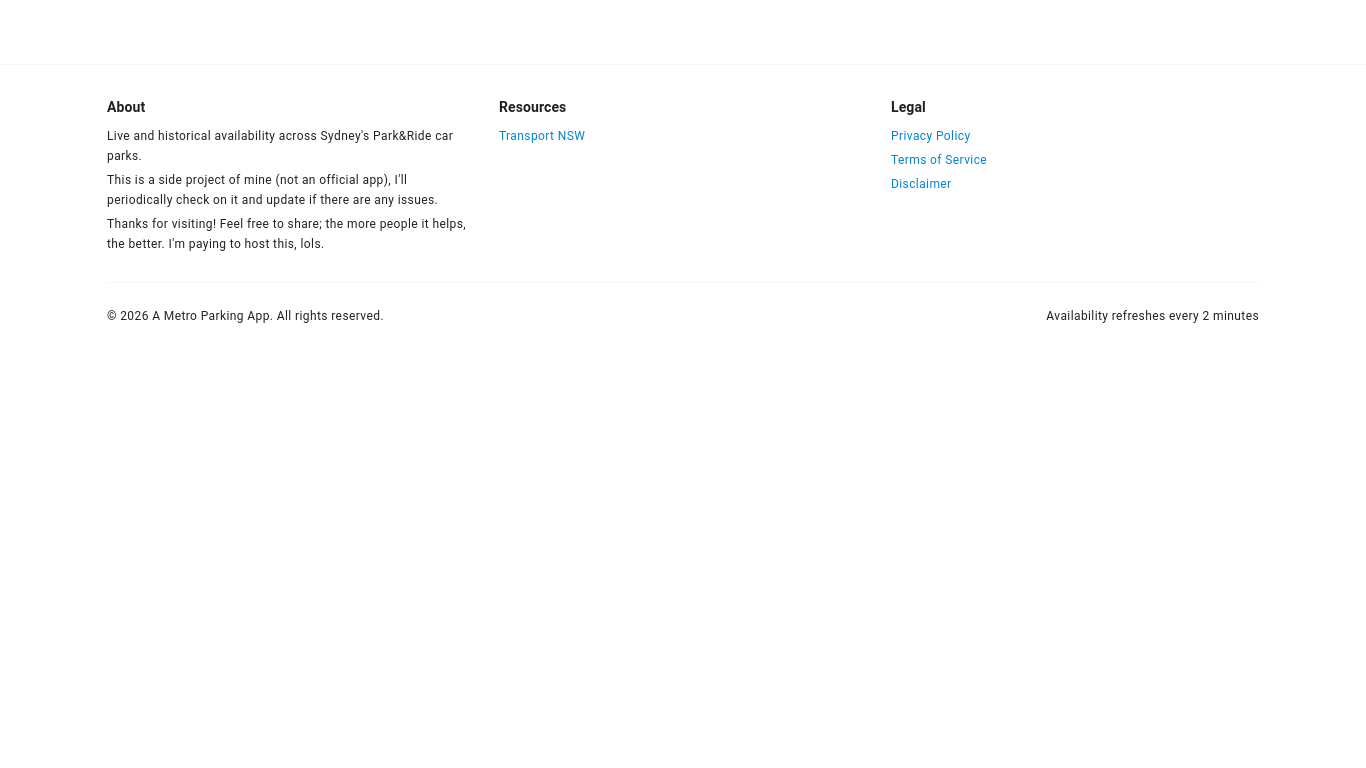
Footer › opens terms of service dialog
Click the button "Terms of Service". click: (939, 160)
box: [891,151,1259,171]
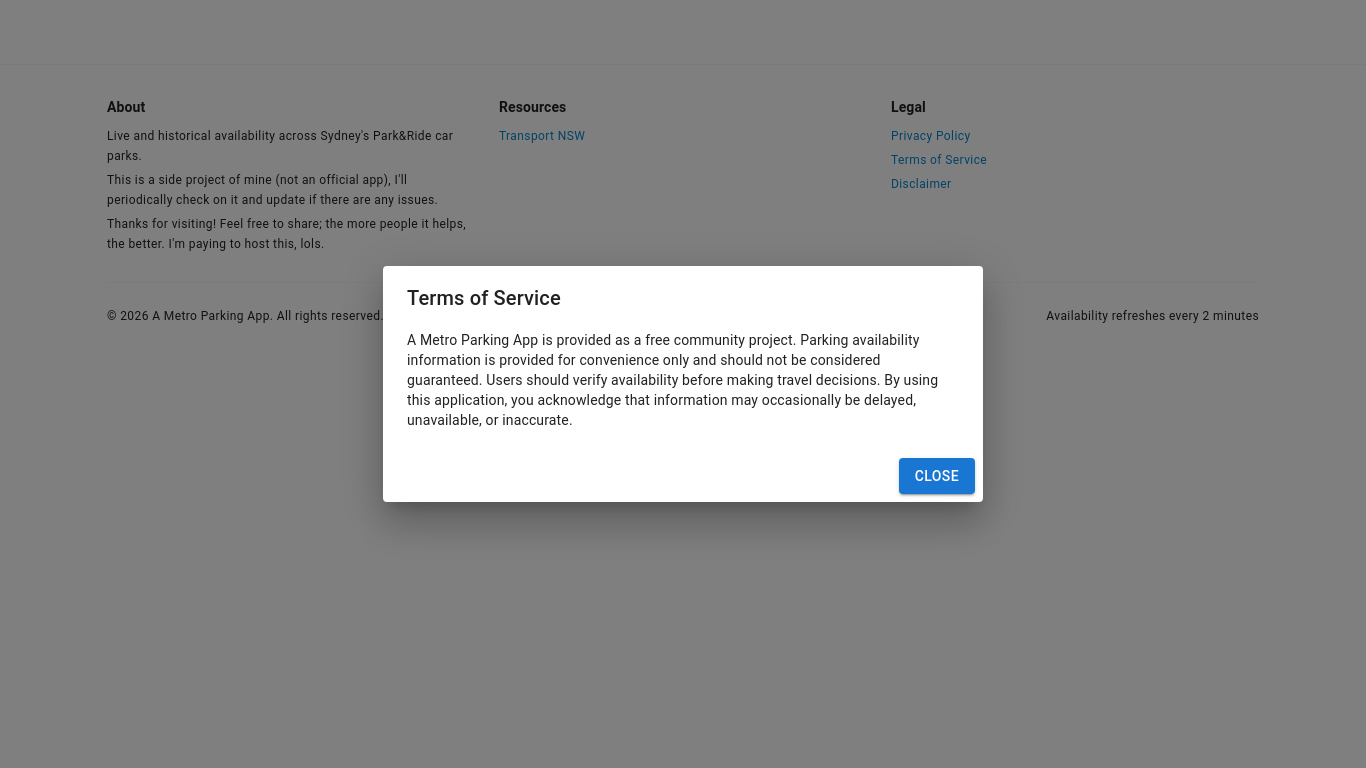
Now the dialog is shown, box [383,266,983,502]
Now the heading "Terms of Service" is shown, box [407,286,561,310]
Now the text "provided as a free community project" is shown, box [407,332,938,428]
